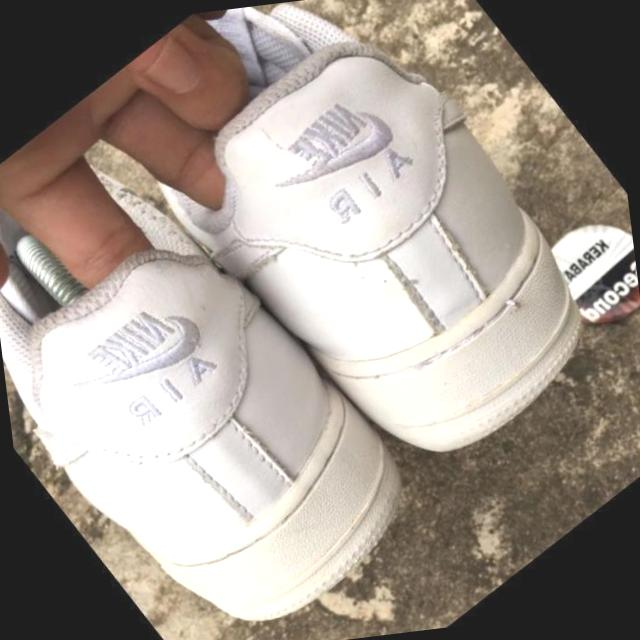nike_original_airforce: (74, 0, 640, 547), (0, 108, 461, 640)
